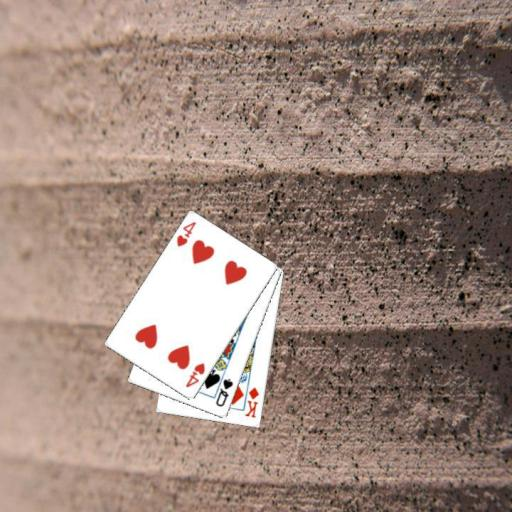4H: (182, 360, 206, 390), (174, 218, 198, 248)
KD: (242, 384, 260, 420)
QS: (213, 376, 235, 408)
